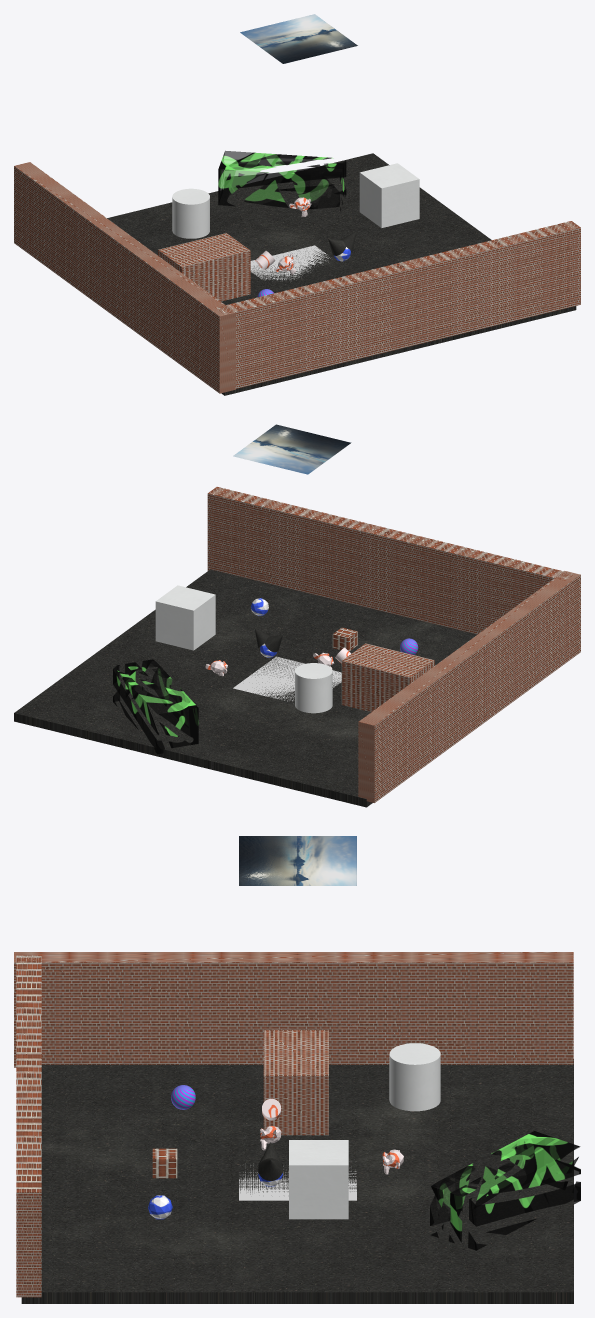
3 views of the same model, one above another, from view 1: azimuth 30°, elevation 25°; view 2: azimuth 150°, elevation 25°; view 3: azimuth 270°, elevation 25° (orthographic). The views are drawn at different scales.
Visible parts, largest first — view 1: Cube.003, Plane, Cube.004, Cube.005, Cube.002, Cube.001, back, Cylinder.001, cubemap_texture_set; view 2: Plane, Cube.003, Cube.004, Cube.005, Cube.002, Cube.001, back, cubemap_texture_set, Cylinder.001, Cube; view 3: Plane, Cube.004, Cube.003, Cube.005, Cube.002, back, Cube.001, Cylinder.001, cubemap_texture_set, Cube.
Boxes of the visible parts, x1,y1,x2,y2 form: Cube.003: (216, 221, 580, 388); Plane: (107, 153, 576, 395); Cube.004: (14, 162, 235, 393); Cube.005: (218, 151, 346, 211); Cube.002: (158, 233, 250, 301); Cube.001: (359, 163, 419, 227); back: (240, 14, 357, 63); Cylinder.001: (172, 188, 209, 238); cubemap_texture_set: (250, 245, 330, 280); Plane: (14, 569, 476, 807); Cube.003: (207, 486, 573, 634); Cube.004: (358, 571, 580, 802); Cube.005: (113, 659, 198, 754); Cube.002: (341, 643, 434, 711); Cube.001: (155, 585, 215, 650); back: (233, 424, 351, 474); cubemap_texture_set: (233, 656, 341, 701); Cylinder.001: (295, 663, 332, 713); Cube: (332, 627, 357, 651); Plane: (21, 1059, 573, 1303); Cube.004: (14, 952, 573, 1067); Cube.003: (16, 955, 41, 1297); Cube.005: (430, 1131, 580, 1250); Cube.002: (263, 1030, 328, 1135); back: (239, 836, 356, 885); Cube.001: (289, 1140, 348, 1219); Cylinder.001: (389, 1043, 440, 1111); cubemap_texture_set: (239, 1165, 356, 1200); Cube: (152, 1148, 177, 1178).
Bounding box in the file's own units: 9.64 × 6.1 × 9.61.
13 materials, 13 textured.
